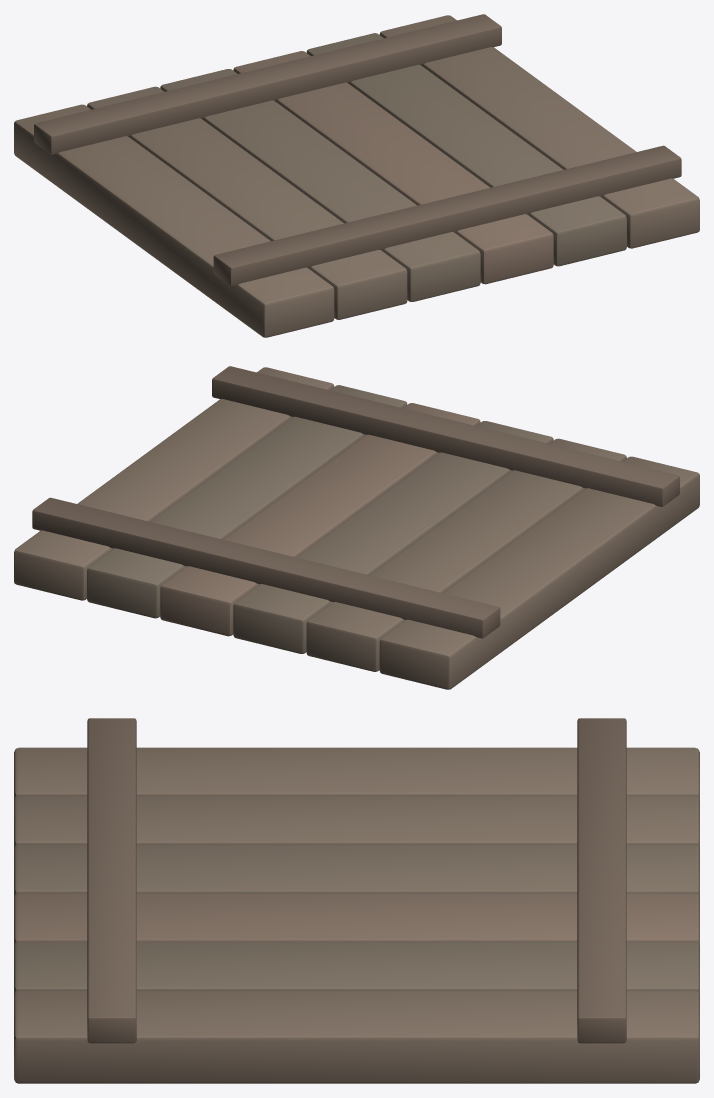
Rendered from dk_raft.gltf.
3 renders of one model, top to bottom at view 1: azimuth 30°, elevation 25°; view 2: azimuth 150°, elevation 25°; view 3: azimuth 270°, elevation 25°, orthographic. The views are drawn at different scales.
Parts seen in each view (by area): view 1: Body; view 2: Body; view 3: Body.
Boxes of the visible parts, x1,y1,x2,y2 form: Body: (14,14,699,337); Body: (14,366,699,689); Body: (14,718,699,1083).
Size of the model in its own units: 2.9 by 0.33 by 2.8.
